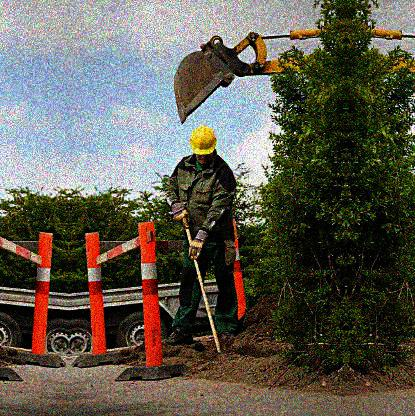helmet: (189, 126, 218, 167)
